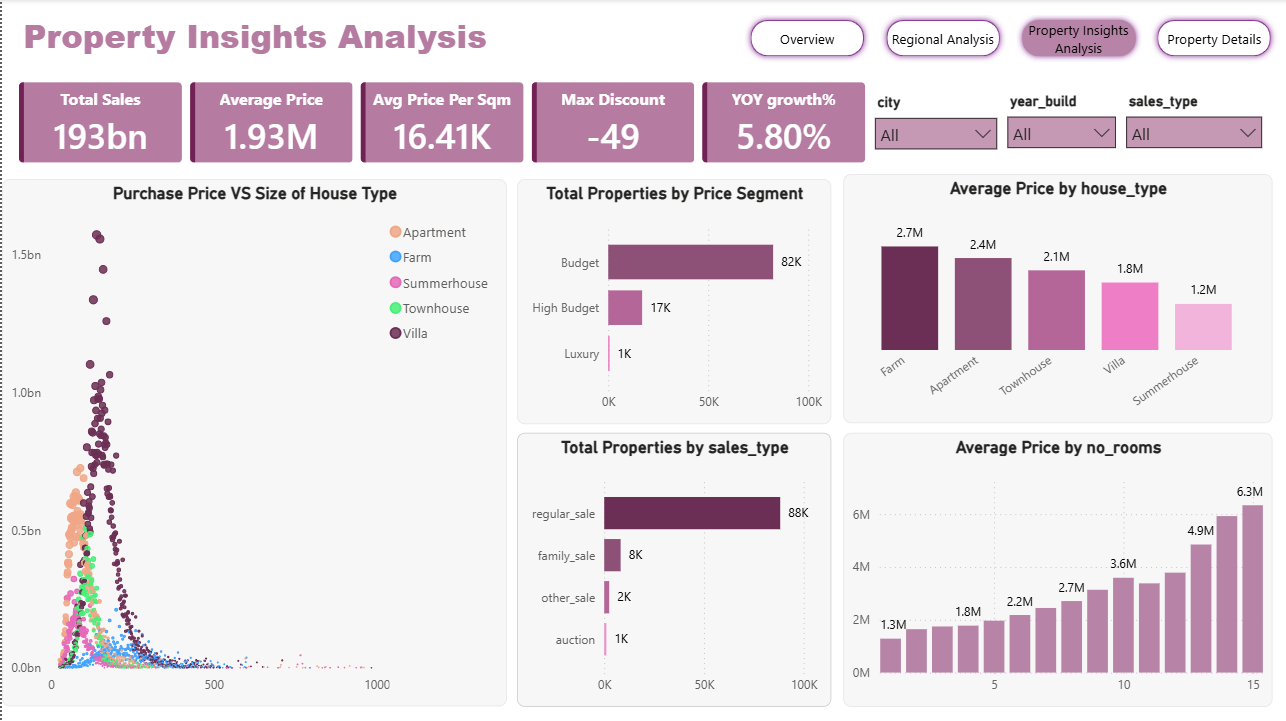

This screenshot's page, from the dashboard's own definition file:
{"tool":"powerbi","page":{"name":" Property Insights Analysis","canvas":[1280,720],"ordinal":2},"visuals":[{"type":"cardVisual","fields":{"Data":["Measure Table.Total Sales","Measure Table.Average Price","Measure Table.Avg Price Per Sqm","Measure Table.Max Discount","Measure Table.YOY growth%"]},"box":[0,65.9,879.5,114.4],"z":0},{"type":"barChart","fields":{"Category":["Housing Data.Price Segment"],"Y":["Measure Table.Total Properties"]},"box":[512.2,178.9,313.1,243.8],"z":1000},{"type":"slicer","fields":{"Values":["Housing Data.city"]},"box":[858.3,89.6,141.8,65.9],"z":2000},{"type":"slicer","fields":{"Values":["Housing Data.year_build"]},"box":[990.2,88.3,128.1,67.2],"z":3000},{"type":"clusteredBarChart","fields":{"Category":["Housing Data.sales_type"],"Y":["Measure Table.Total Properties"]},"box":[512.2,431.4,313.1,272.7],"z":4000},{"type":"textbox","box":[16.2,8.7,505,62.2],"z":5000},{"type":"scatterChart","title":"Purchase Price VS Size  of House Type","fields":{"Series":["Housing Data.house_type"],"Size":["Sum(Housing Data.sqm_price)"],"X":["Housing Data.sqm"],"Y":["Sum(Housing Data.purchase_price)"]},"box":[0,178.9,502.1,525.2],"z":6000},{"type":"columnChart","fields":{"Category":["Housing Data.house_type"],"Y":["Measure Table.Average Price"]},"box":[836.8,174.6,427.1,248.2],"z":7000},{"type":"columnChart","fields":{"Category":["Housing Data.no_rooms"],"Y":["Measure Table.Average Price"]},"box":[836.8,431.4,427.1,272.7],"z":8000},{"type":"slicer","fields":{"Values":["Housing Data.sales_type"]},"box":[1108.4,88.3,155.5,65.9],"z":8001},{"type":"pageNavigator","box":[738.9,14.9,532.4,48.5],"z":8002}]}

Visuals, with their boxes in screenshot pixels (x1, y1, x2, y2), scaled from the page's 1280x720 canvas onto the 1286x721 screenshot:
cardVisual - Measure Table.Total Sales x Measure Table.Average Price: [0, 66, 884, 181]
barChart - Housing Data.Price Segment x Measure Table.Total Properties: [515, 179, 829, 423]
slicer - Housing Data.city: [862, 90, 1005, 156]
slicer - Housing Data.year_build: [995, 88, 1124, 156]
clusteredBarChart - Housing Data.sales_type x Measure Table.Total Properties: [515, 432, 829, 705]
textbox: [16, 9, 524, 71]
"Purchase Price VS Size  of House Type" scatterChart: [0, 179, 504, 705]
columnChart - Housing Data.house_type x Measure Table.Average Price: [841, 175, 1270, 423]
columnChart - Housing Data.no_rooms x Measure Table.Average Price: [841, 432, 1270, 705]
slicer - Housing Data.sales_type: [1114, 88, 1270, 154]
pageNavigator: [742, 15, 1277, 63]
